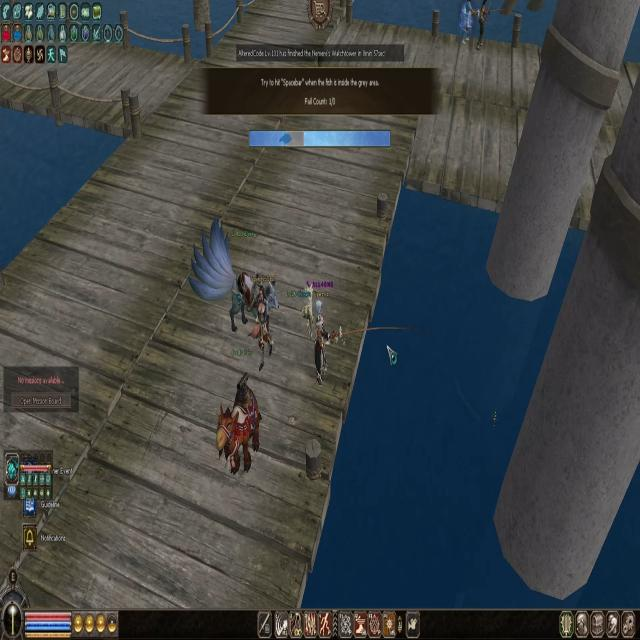box: (285, 131, 304, 147)
fishes: (280, 135, 289, 143)
